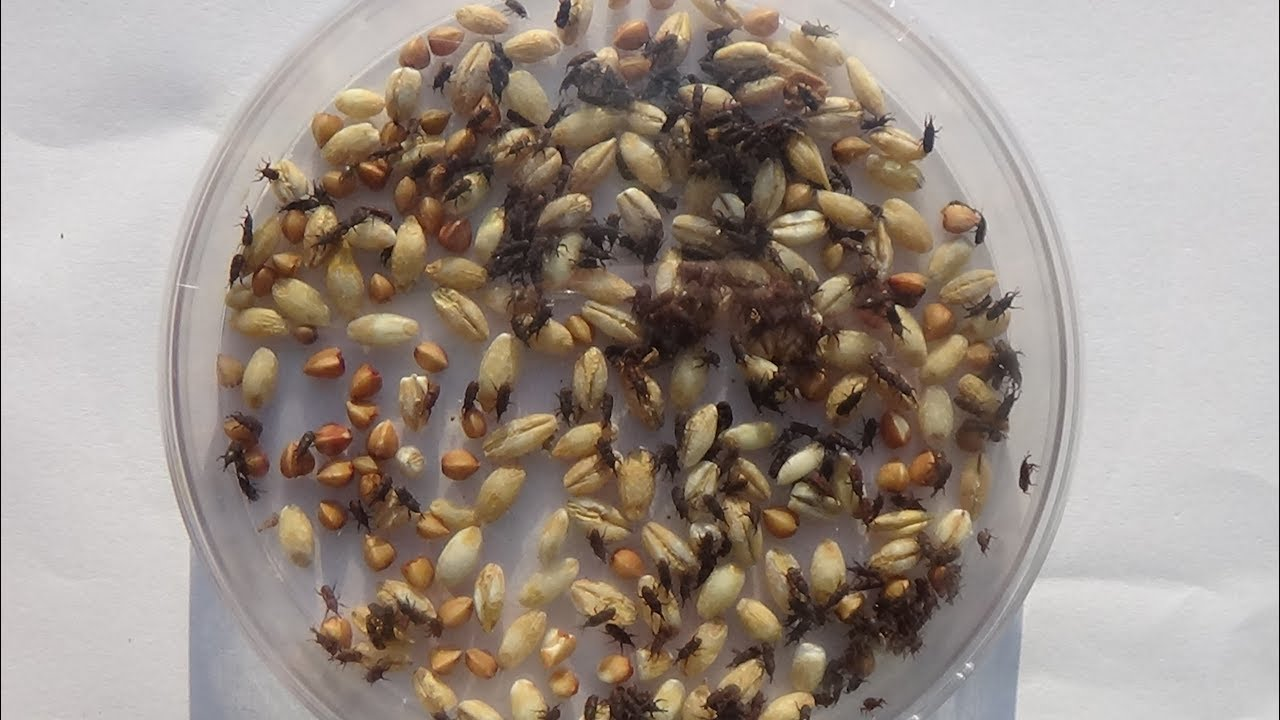dolgonosik: (303, 571, 352, 624), (363, 596, 399, 653), (1006, 445, 1046, 494), (915, 101, 948, 159), (876, 302, 918, 347), (581, 517, 619, 564), (228, 405, 271, 445), (552, 372, 581, 431), (847, 412, 885, 457), (571, 599, 624, 631), (340, 495, 374, 543), (399, 97, 433, 145), (248, 150, 290, 188), (394, 483, 430, 527), (214, 255, 252, 296), (361, 465, 398, 507), (423, 56, 459, 98), (489, 376, 518, 428), (310, 220, 357, 252), (637, 583, 668, 631), (436, 175, 482, 207), (642, 621, 676, 664), (604, 617, 642, 655), (726, 327, 759, 370), (304, 625, 340, 664), (855, 107, 896, 140), (208, 445, 257, 472), (360, 197, 404, 227), (414, 380, 445, 422), (592, 432, 618, 482), (363, 656, 399, 692), (398, 592, 431, 631), (986, 291, 1025, 324), (290, 422, 318, 467), (831, 163, 866, 199), (308, 175, 342, 211), (571, 688, 609, 720), (803, 16, 843, 46), (930, 454, 957, 498), (233, 470, 262, 510), (523, 303, 552, 343), (670, 636, 707, 667), (654, 555, 679, 598), (843, 459, 868, 502), (695, 342, 723, 380), (237, 203, 260, 249), (363, 140, 409, 163), (974, 519, 1001, 557), (550, 1, 586, 29), (975, 205, 996, 253), (959, 292, 993, 321), (676, 564, 696, 612), (728, 641, 760, 671), (333, 644, 368, 671), (857, 693, 894, 717), (761, 636, 778, 683), (278, 196, 320, 215), (460, 378, 480, 417), (791, 696, 818, 720), (690, 84, 709, 113)
